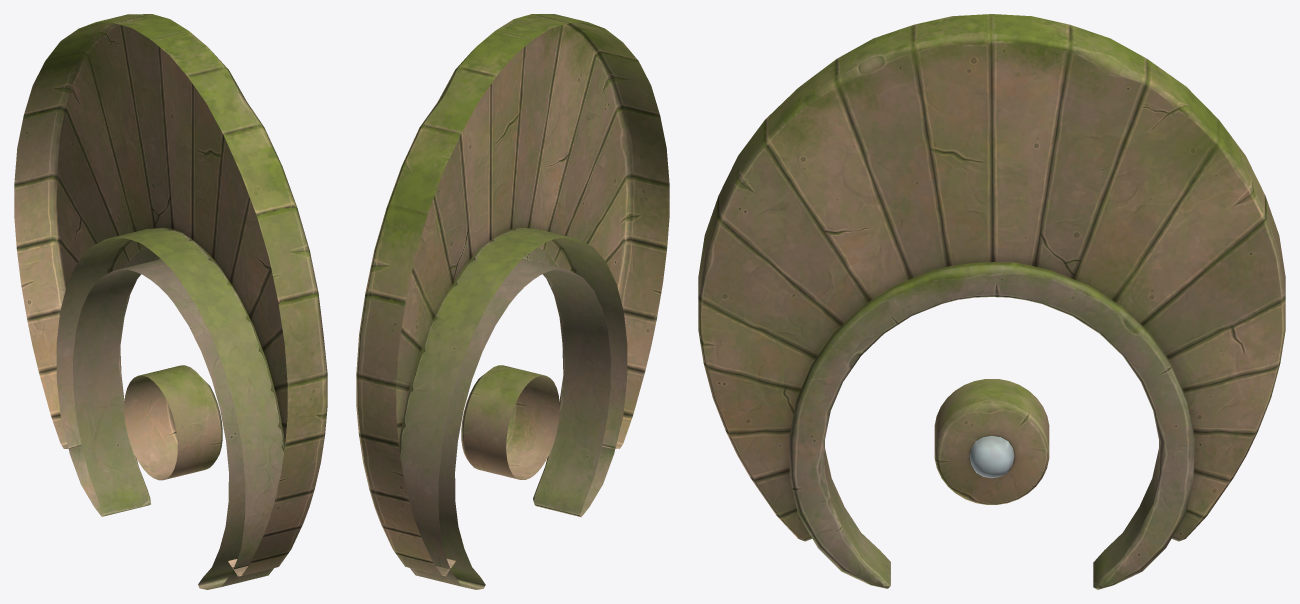
The model's file is SM_Royal_Crest.fbx.
3 renders of one model, left to right at view 1: azimuth 30°, elevation 25°; view 2: azimuth 150°, elevation 25°; view 3: azimuth 270°, elevation 25°, orthographic. The views are drawn at different scales.
Visible parts, largest first — view 1: SM_Royal_Crest_LOD0; view 2: SM_Royal_Crest_LOD0; view 3: SM_Royal_Crest_LOD0.
Part boxes in pixels (<box>): SM_Royal_Crest_LOD0: <box>14,14,327,589</box>; SM_Royal_Crest_LOD0: <box>356,14,669,589</box>; SM_Royal_Crest_LOD0: <box>698,14,1285,589</box>.
Bounding box in the file's own units: 23.84 × 177 × 183.
Materials: 1 (1 with a texture image).
